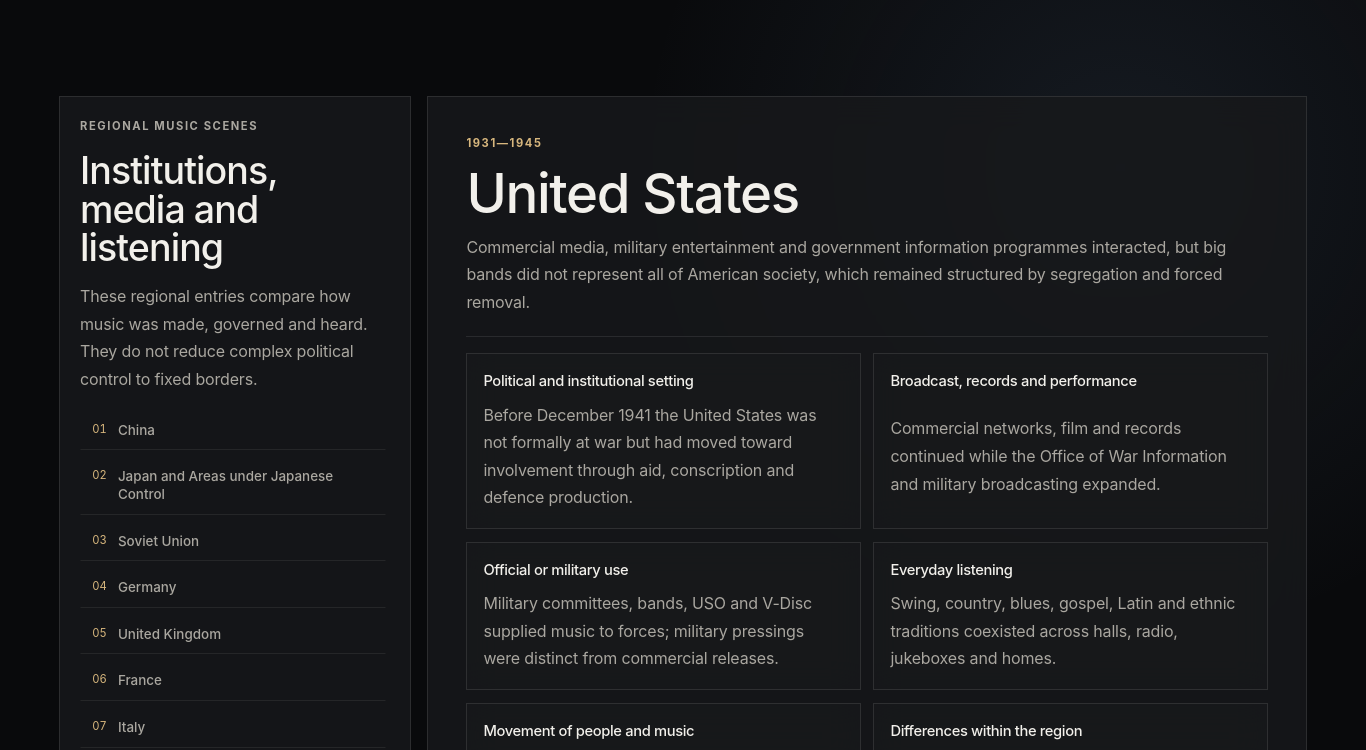
AtlasCountries › changes region through the index without adding a second page of copy
Click the button "01 China". click: (136, 430)
box: left=80, top=409, right=386, bottom=450
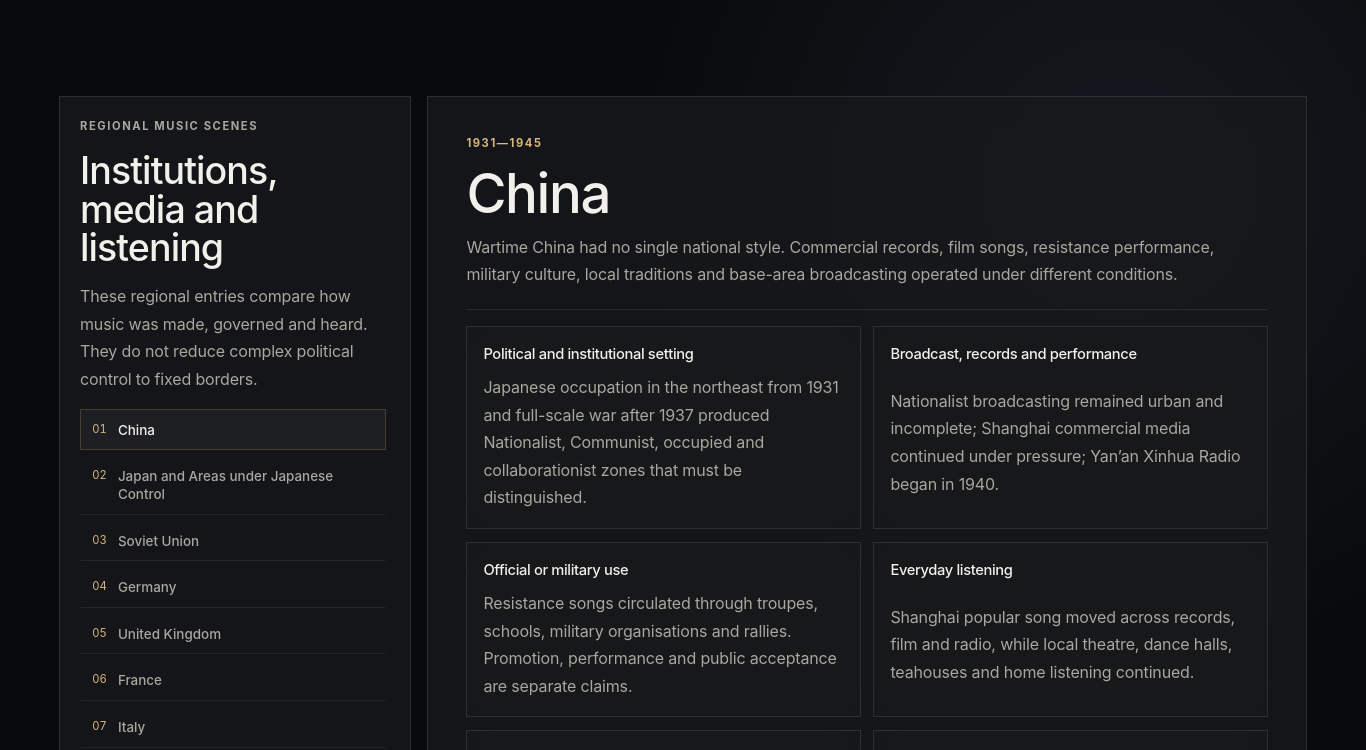
Expected: the number of headers with class "research-heading" is 1, left=466, top=135, right=1268, bottom=310
Expected: the text "Wartime China had no single national style" is shown, left=466, top=237, right=1214, bottom=284
